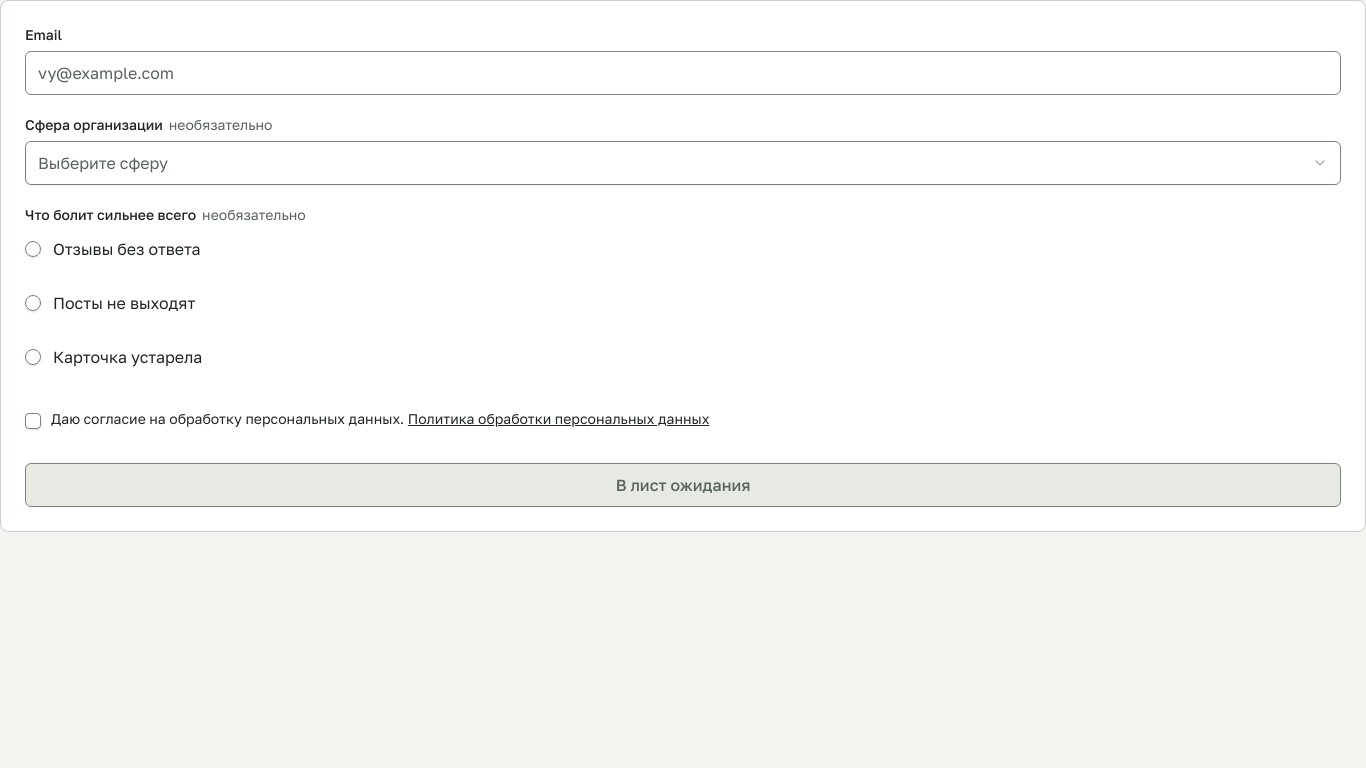
Scenario: landing entry › offers registration after waitlist success in waitlist_only
Type "person@example.com" into the field labelled "Email" at x=683, y=73, box [25,51,1341,95]
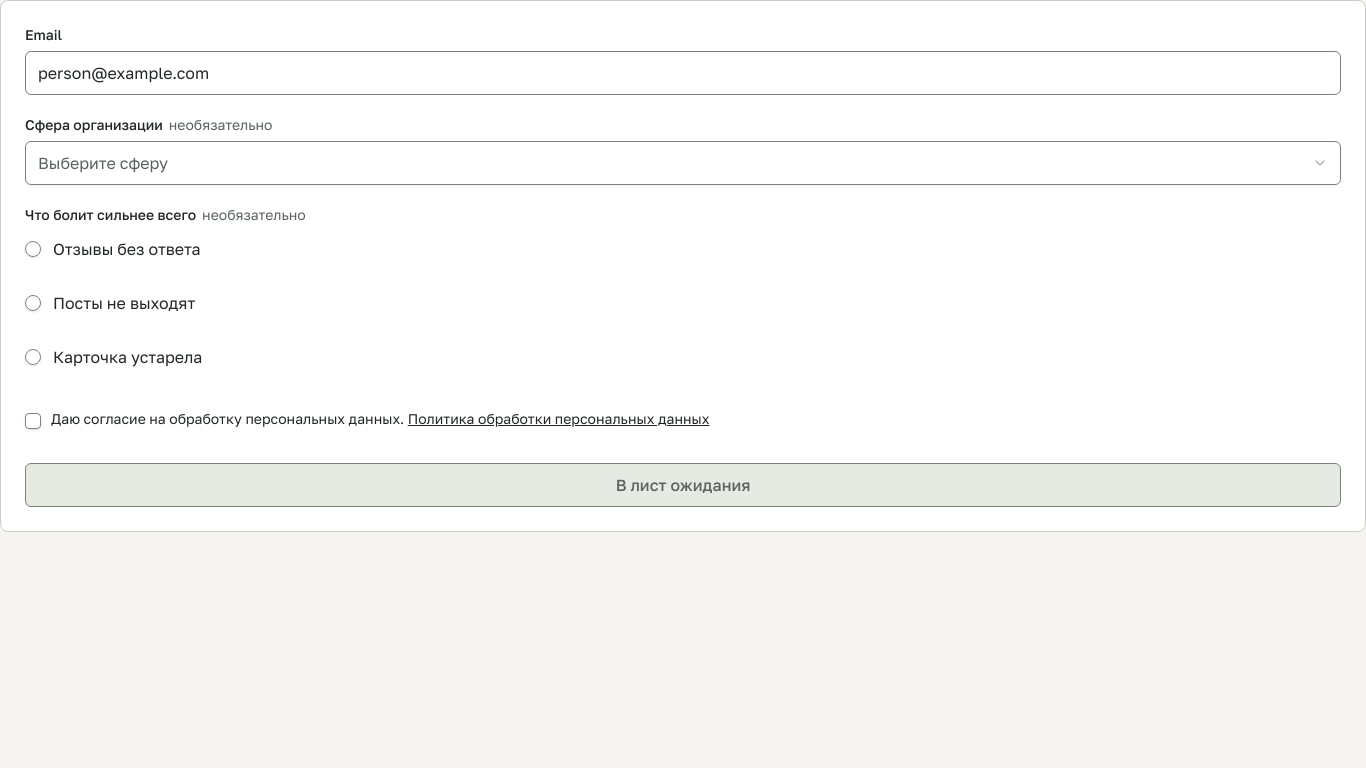
Click the checkbox at x=33, y=421, box [25,413,41,429]
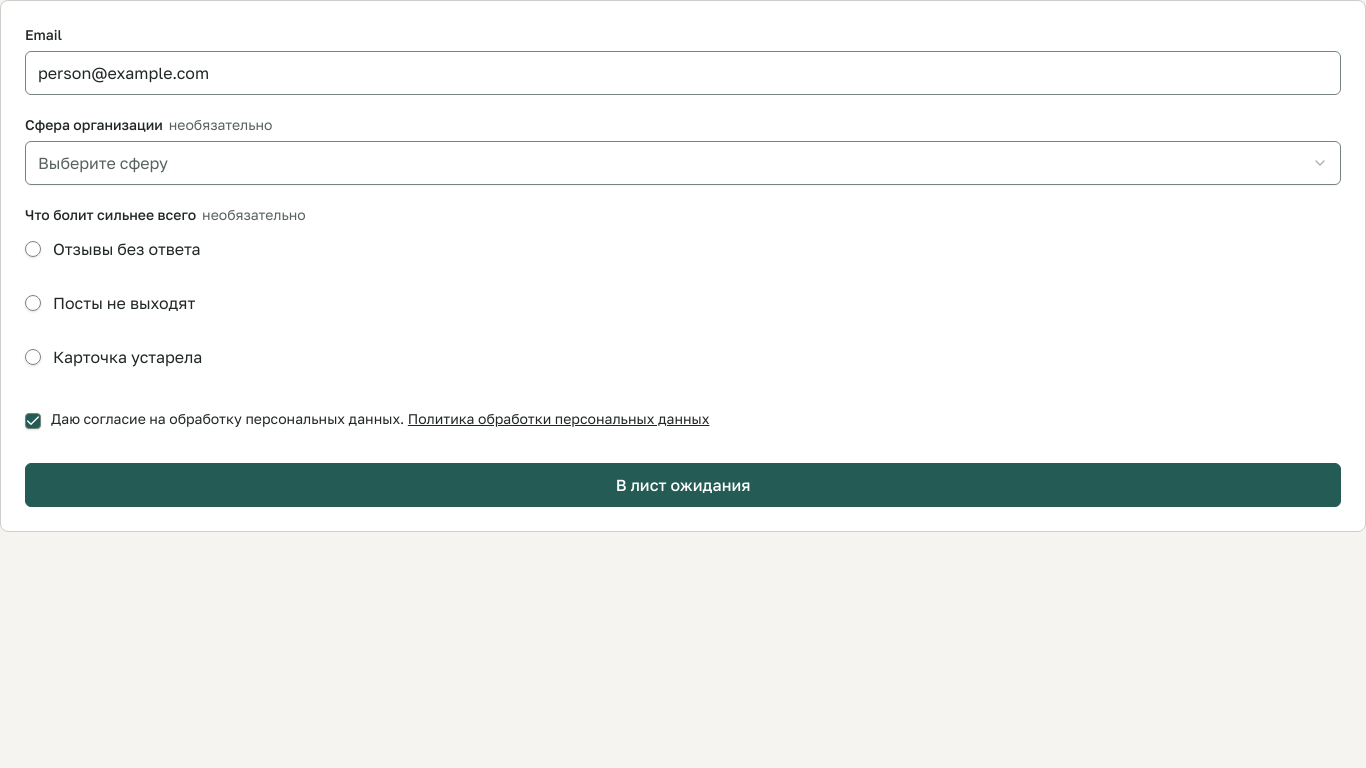
Now the button "В лист ожидания" is enabled
Click the button "В лист ожидания" at x=683, y=485, box [25,463,1341,507]
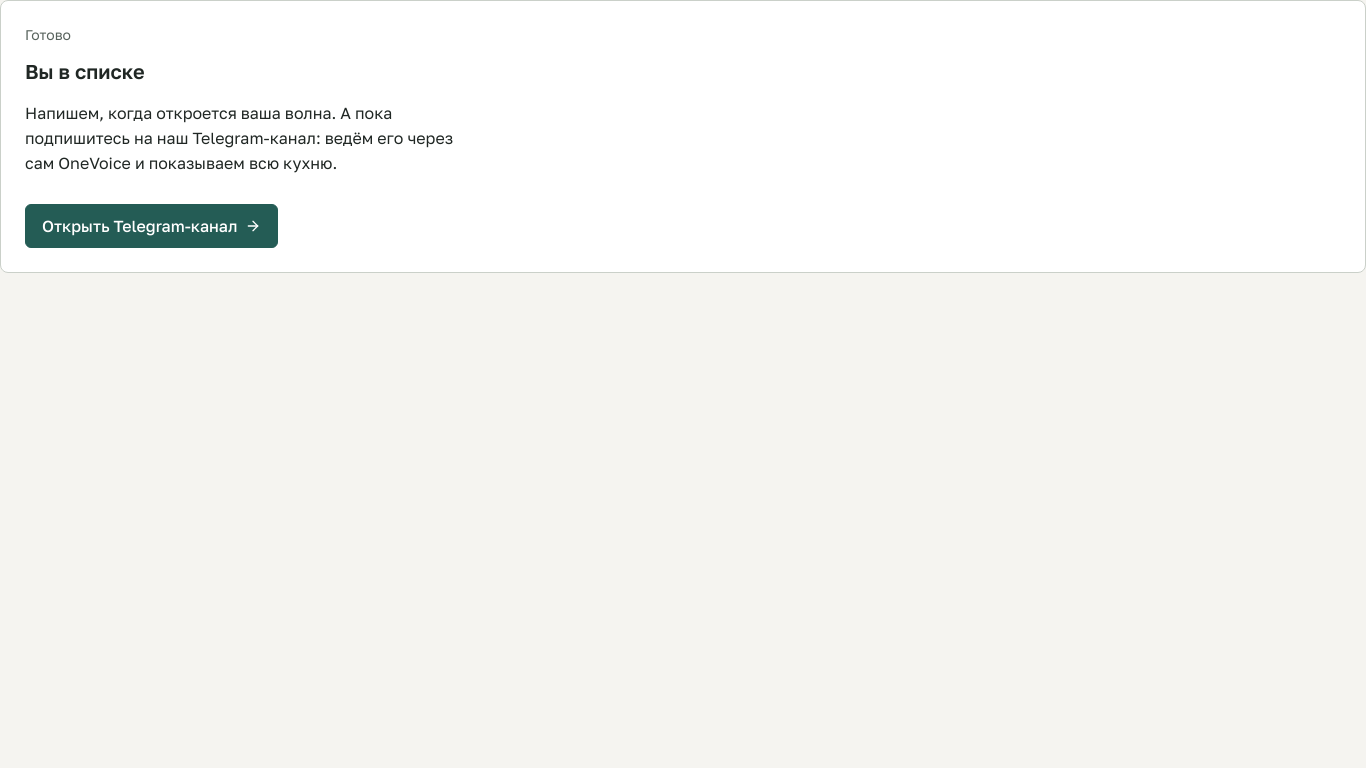
Now the heading "Вы в списке" is shown, box [25,59,144,83]
